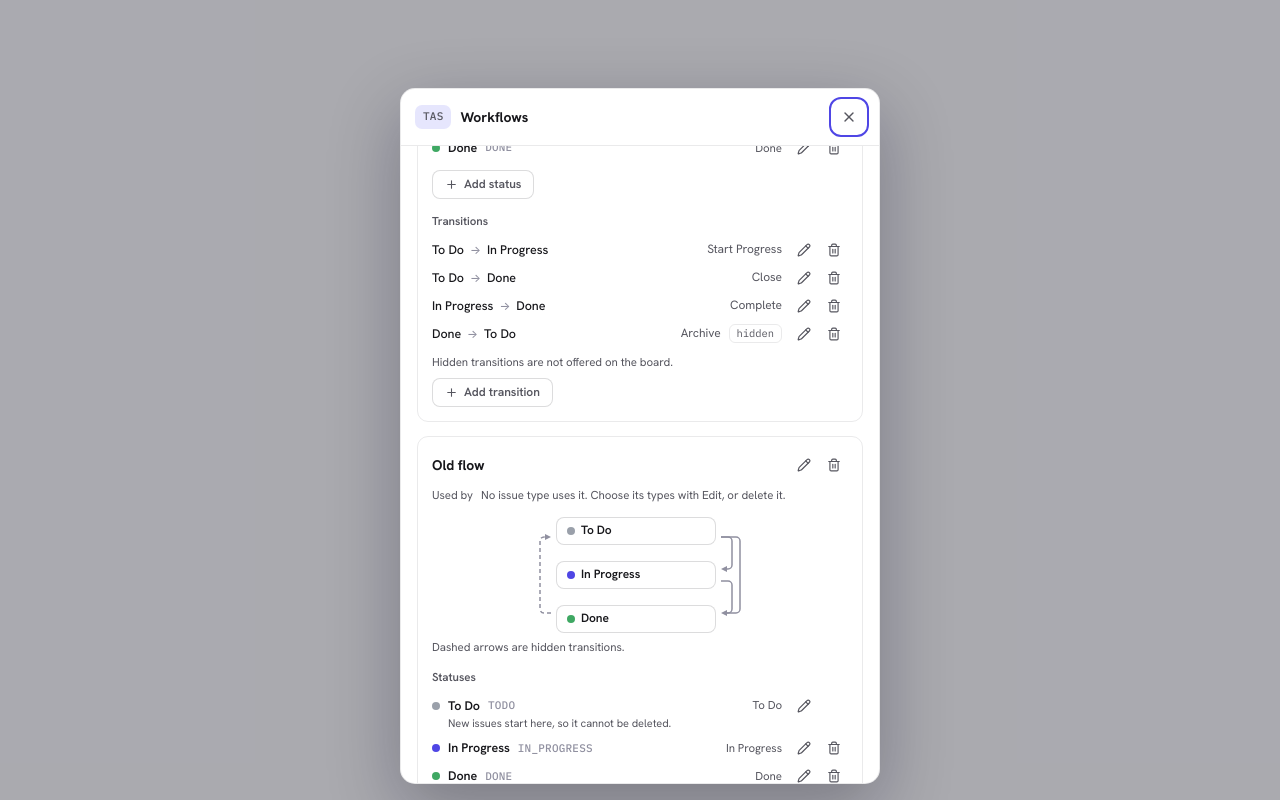
it: what each role is offered › says a donor has no type, and tells an ADMIN what to do with it
The width and height of the screenshot is (1280, 800).
(page scrolled)
Expected: the text "No issue type uses it. Choose its types with Edit, or delete it." is shown, [481,487,785,503]
Step 1. Click the button named "Delete Old flow" → (834, 465), box [820,451,848,479]
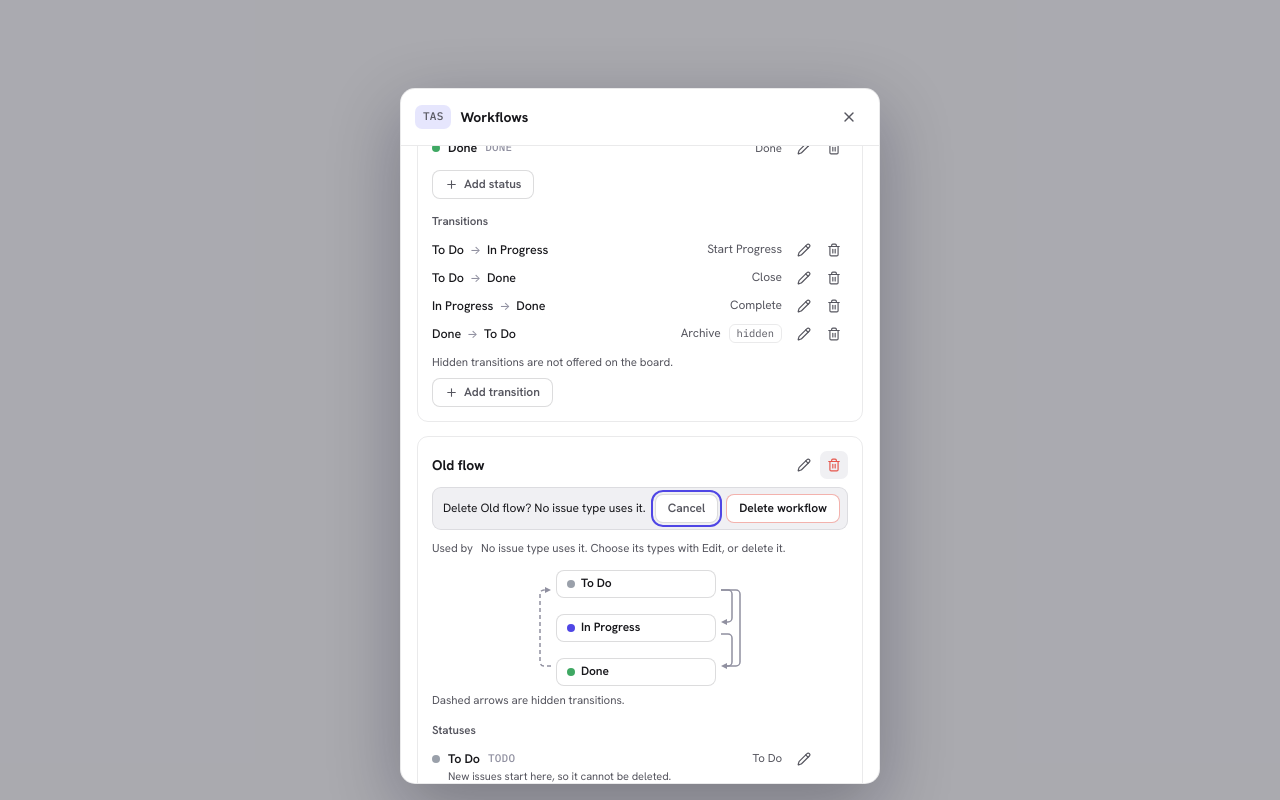
Expected: the text "Delete Old flow? No issue type uses it." is shown, [443,500,647,517]
